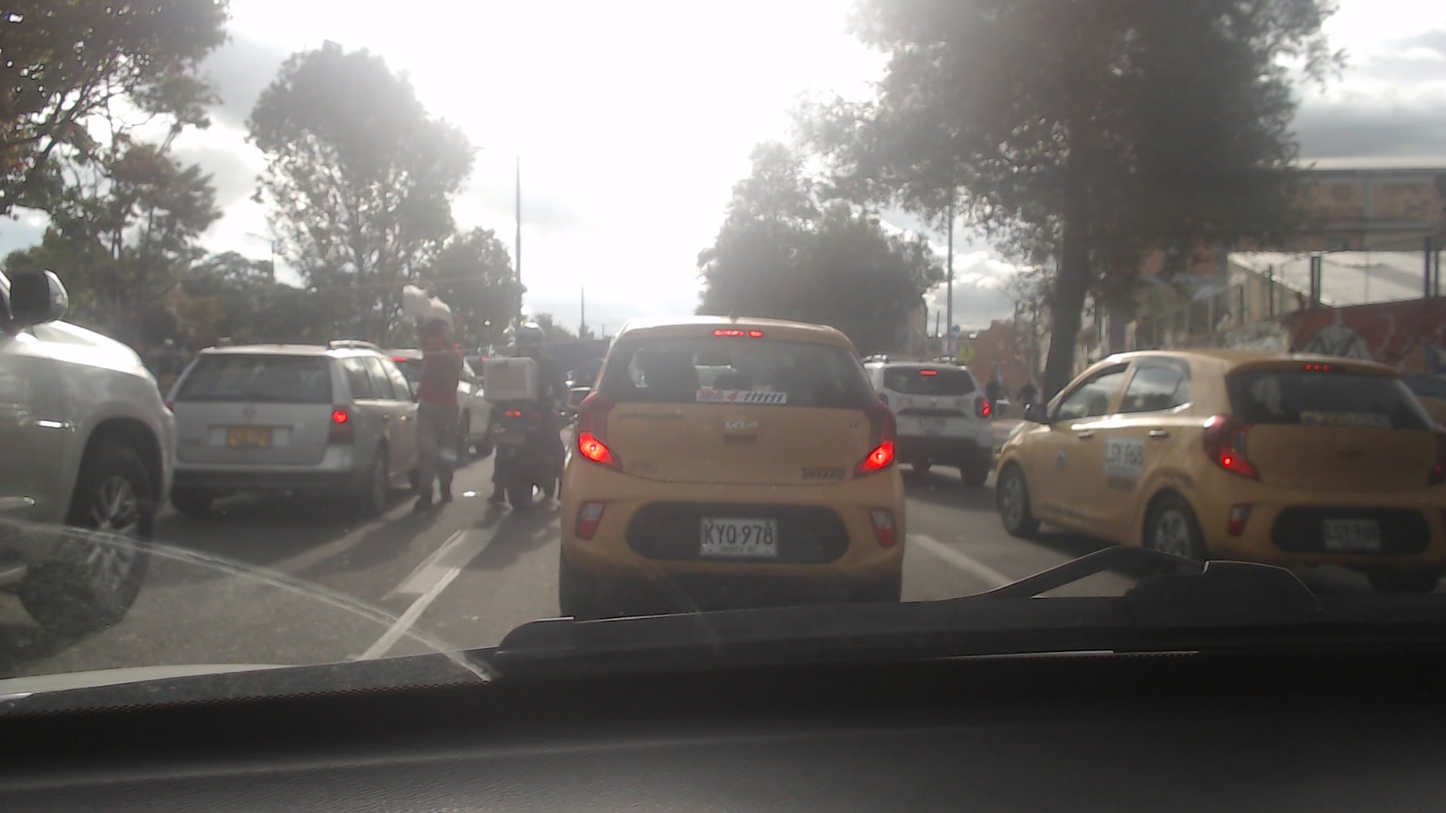car: (557, 319, 906, 624), (994, 352, 1445, 577), (167, 341, 418, 512), (857, 354, 993, 485)
motorcycle: (484, 392, 565, 517)
person: (395, 285, 472, 508), (489, 322, 559, 491)
